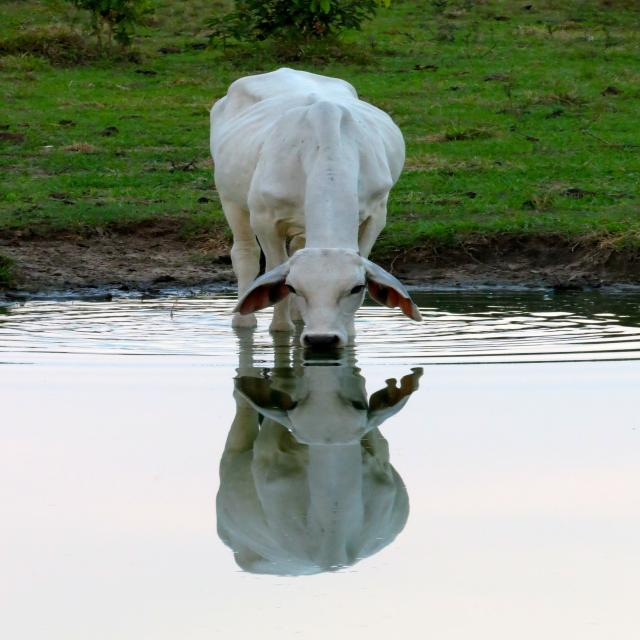cow: (209, 69, 421, 348)
